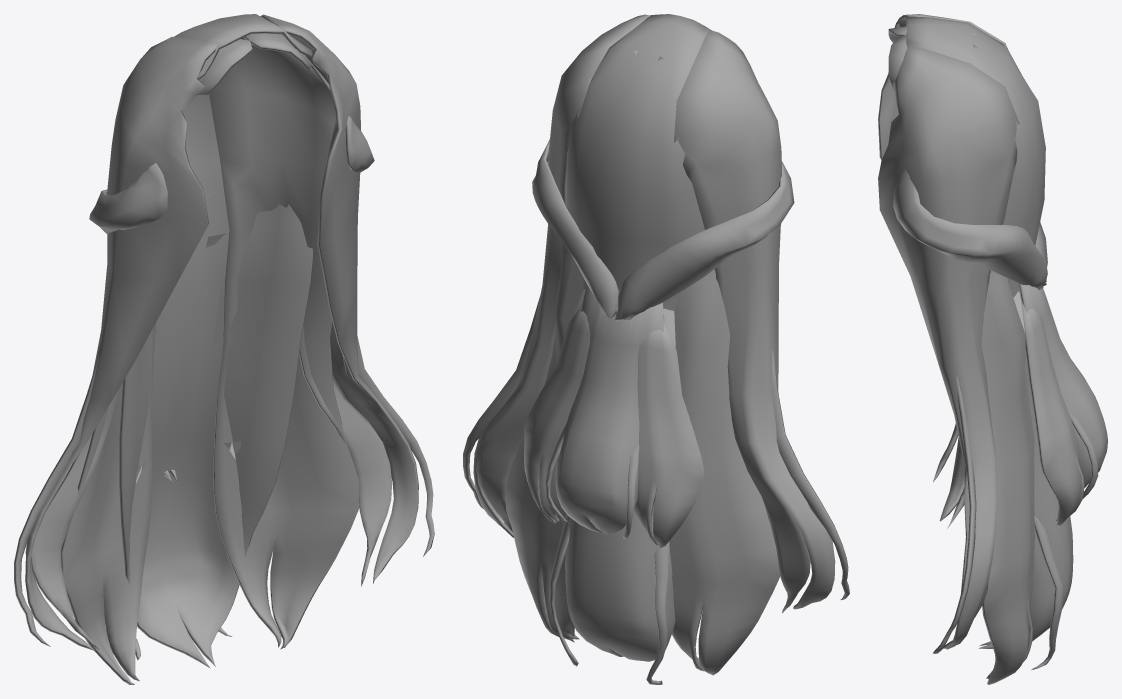
The model's file is HairBack1.fbx.
3 renders of one model, left to right at view 1: azimuth 30°, elevation 25°; view 2: azimuth 150°, elevation 25°; view 3: azimuth 270°, elevation 25°, orthographic. The views are drawn at different scales.
Visible parts, largest first — view 1: Hairback_mesh; view 2: Hairback_mesh; view 3: Hairback_mesh.
Part boxes in pixels (bbox=[...]): Hairback_mesh: bbox=[14, 14, 434, 684]; Hairback_mesh: bbox=[463, 14, 849, 684]; Hairback_mesh: bbox=[878, 14, 1107, 684].
Size of the model in its own units: 44.81 by 68.56 by 22.81.
3 materials, 3 textured.
